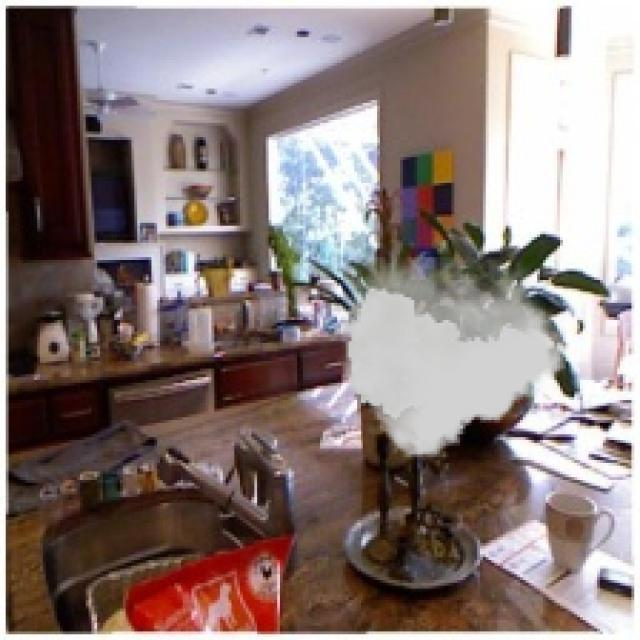Smoke: (337, 257, 566, 457)
